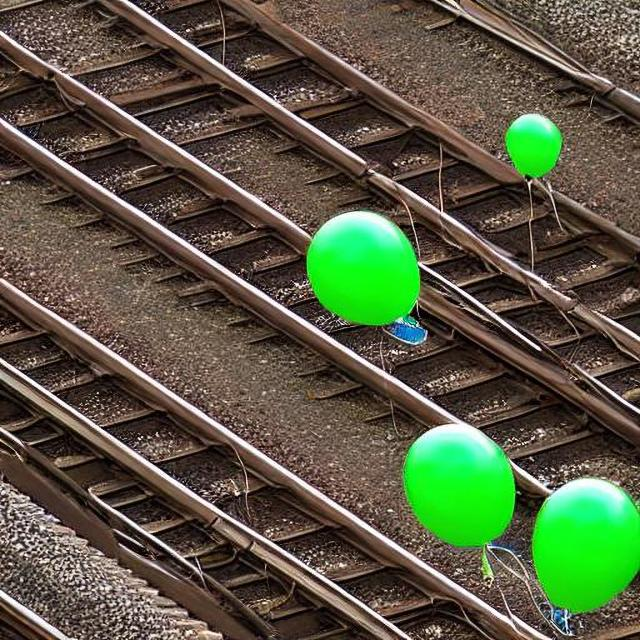balloon: (522, 474, 638, 630), (298, 206, 422, 336), (397, 418, 516, 550), (494, 111, 568, 183)
